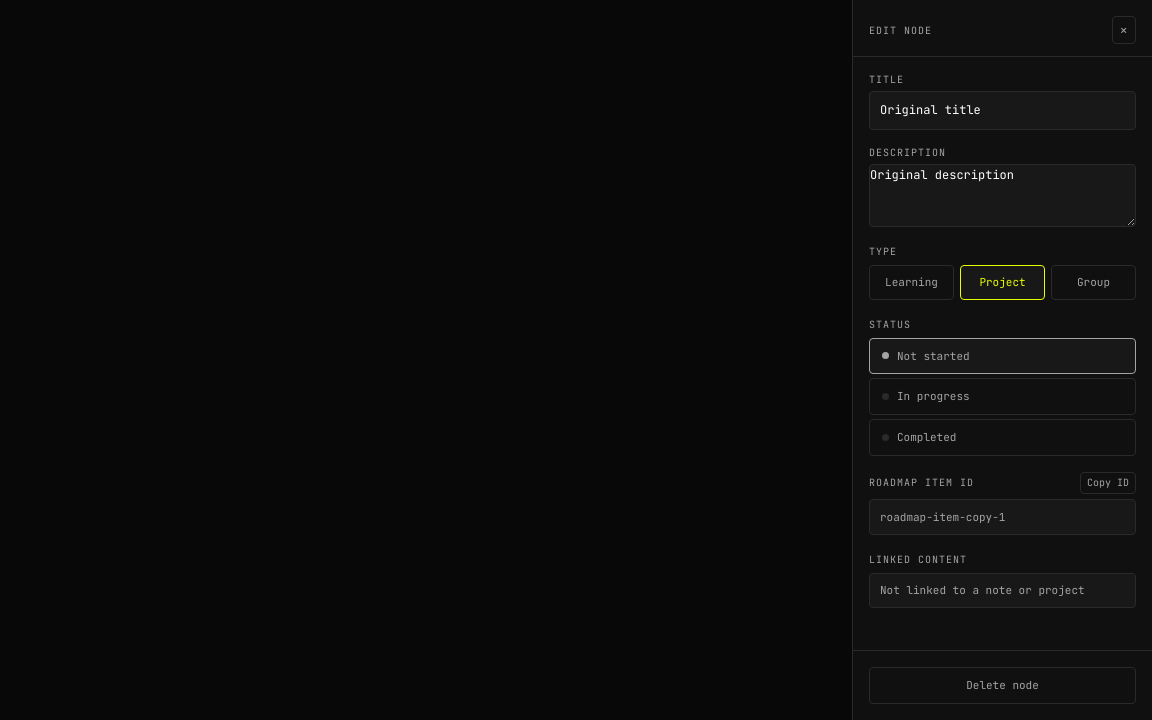
Test: AdminRoadmapSidePanel › copies roadmap item ID to clipboard
Step 1. Click the button with aria-label "Copy roadmap item ID" → point(1108, 483), box x1=1080 y1=472 x2=1136 y2=494
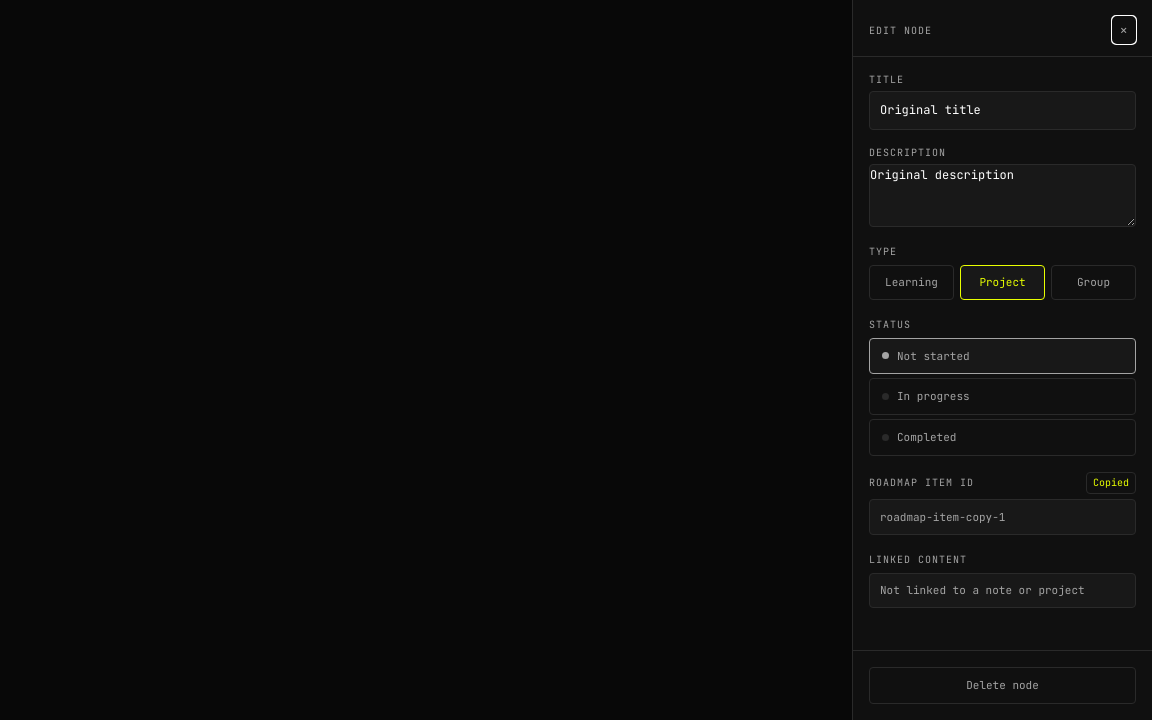
Now the button with aria-label "Copy roadmap item ID" reads "Copied", box x1=1086 y1=472 x2=1136 y2=494
